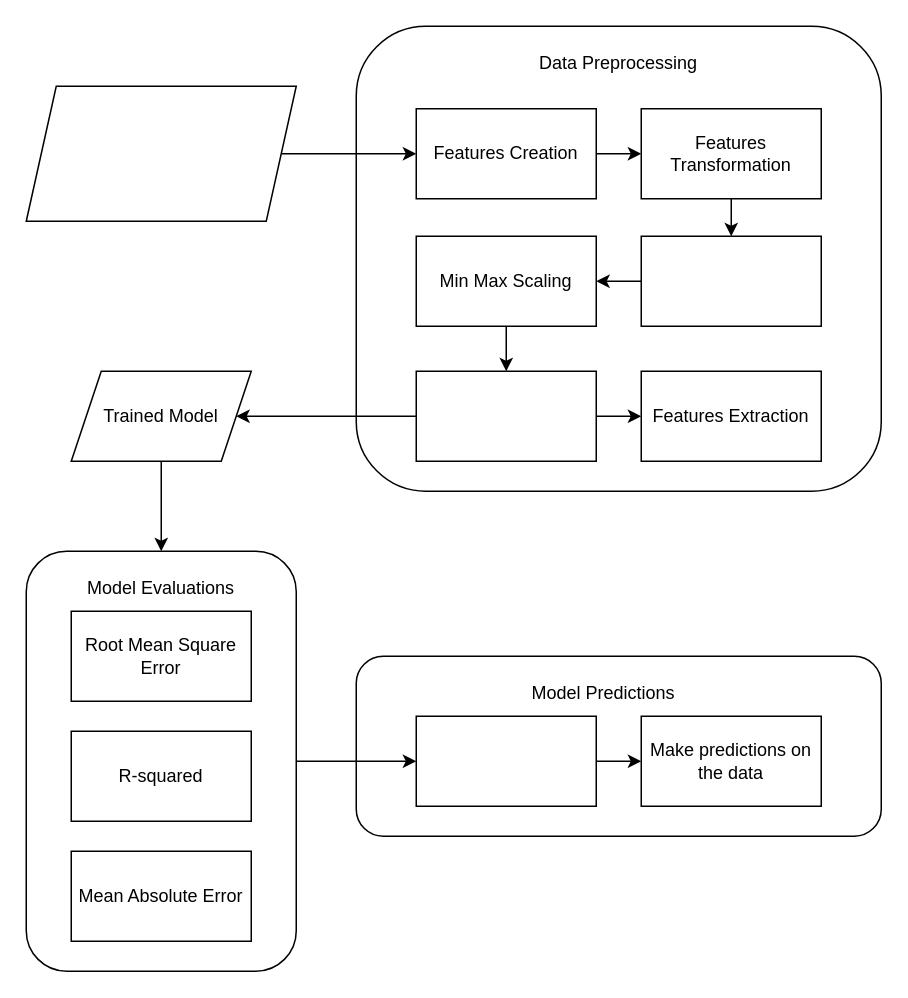
The diagram is 908 pixels wide and 998 high, and some of its shapes have lost their labels. Each missing label, with the box of its shape:
Data Frame (Sorted by Date) - CPI - GDP - Rate from MYR - Currency Code: (25, 85, 296, 221)
Fitting of Y-intercept: (415, 715, 596, 806)
Interpolation of GDP and CPI: (640, 235, 821, 326)
Train test splitting: (415, 370, 596, 461)
